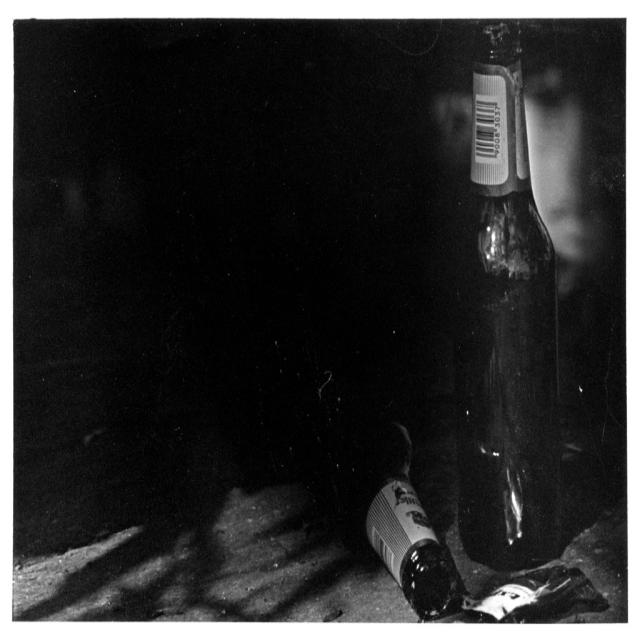Bottle: (455, 24, 590, 584), (257, 292, 468, 629)
